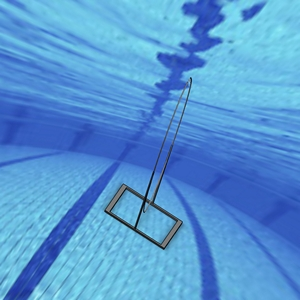circle: (102, 74, 196, 249)
